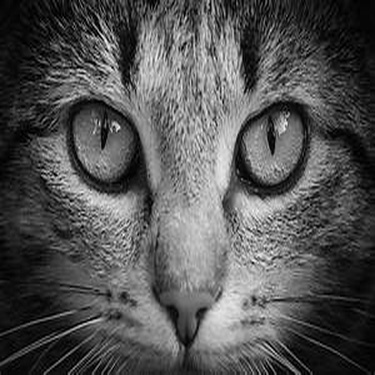cat: (7, 5, 367, 369)
